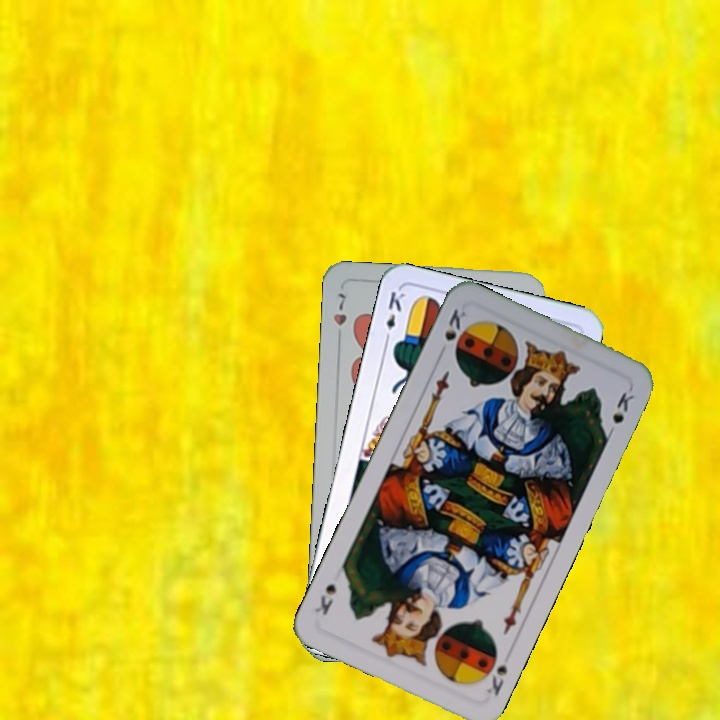EK: (380, 287, 407, 346)
H7: (329, 289, 349, 345)
SK: (434, 304, 469, 359), (482, 661, 511, 699)
